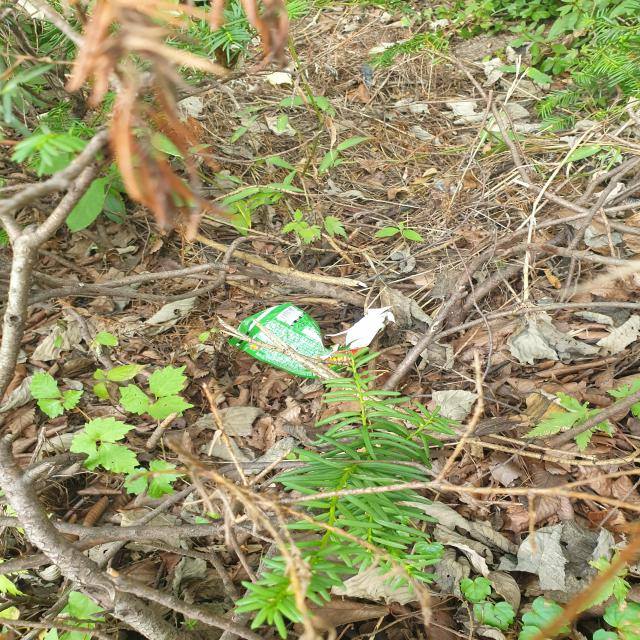litter: (226, 302, 395, 378), (361, 62, 373, 87)
